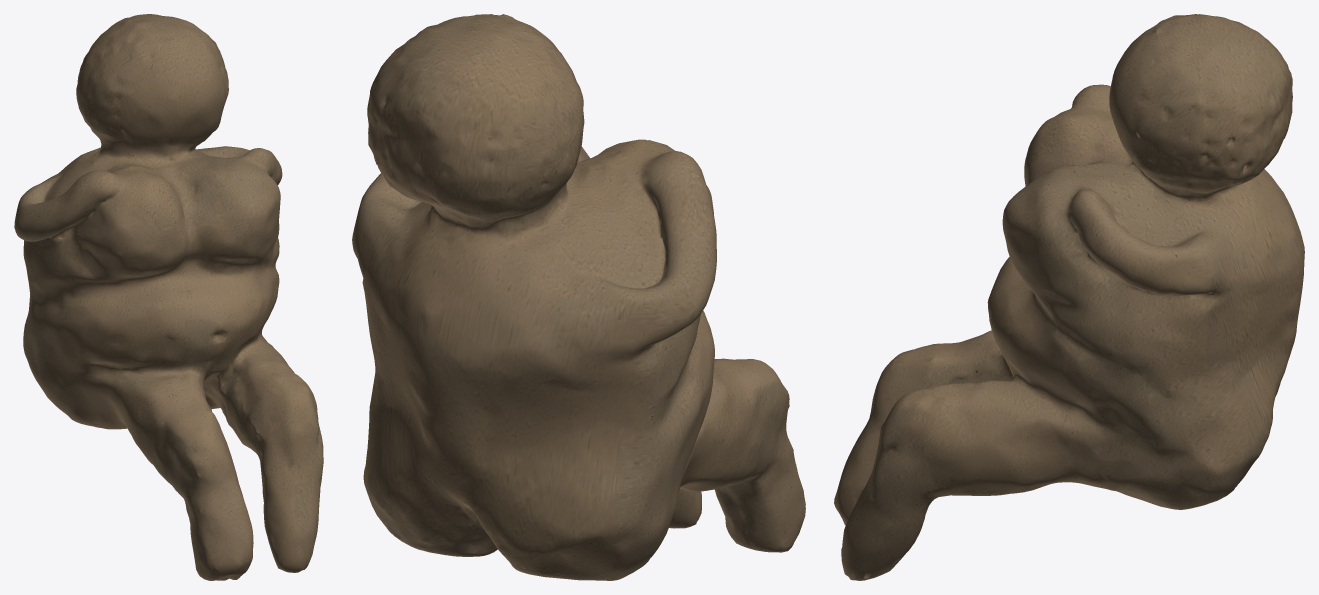
The model's file is woman.glb.
3 renders of one model, left to right at view 1: azimuth 30°, elevation 25°; view 2: azimuth 150°, elevation 25°; view 3: azimuth 270°, elevation 25°, orthographic. The views are drawn at different scales.
Parts seen in each view (by area): view 1: lp_woman; view 2: lp_woman; view 3: lp_woman.
Part boxes in pixels (box(x1,y1,x2,y2)): lp_woman: box(14, 14, 323, 580); lp_woman: box(352, 14, 805, 580); lp_woman: box(834, 14, 1304, 580).
Size of the model in its own units: 0.0471 by 0.0837 by 0.0646.
Materials: 1 (1 with a texture image).
